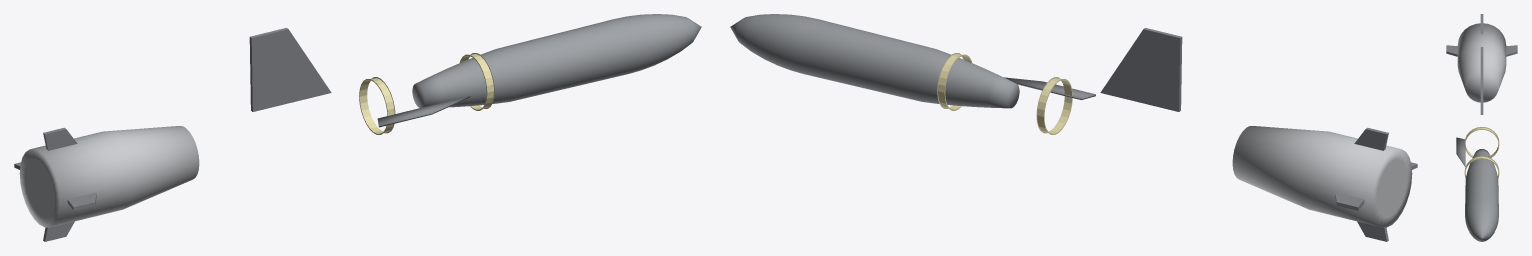
The model's file is FR_ASM_Exocet_SM39_LOD1.fbx.
3 views of the same model, side by side, from view 1: azimuth 30°, elevation 25°; view 2: azimuth 150°, elevation 25°; view 3: azimuth 270°, elevation 25° (orthographic). The views are drawn at different scales.
Parts seen in each view (by area): view 1: WPN_FR_ASM_Exocet_SM39_LOD1_Body, WPN_FR_ASM_Exocet_SM39_LOD1_Tail, WPN_FR_ASM_Exocet_SM39_LOD1_Wings, WPN_FR_ASM_Exocet_SM39_LOD1_Marking, WPN_FR_ASM_Exocet_SM39_LOD1_Fins, WPN_FR_ASM_Exocet_SM39_LOD1_Detail; view 2: WPN_FR_ASM_Exocet_SM39_LOD1_Body, WPN_FR_ASM_Exocet_SM39_LOD1_Tail, WPN_FR_ASM_Exocet_SM39_LOD1_Wings, WPN_FR_ASM_Exocet_SM39_LOD1_Marking, WPN_FR_ASM_Exocet_SM39_LOD1_Fins, WPN_FR_ASM_Exocet_SM39_LOD1_Detail; view 3: WPN_FR_ASM_Exocet_SM39_LOD1_Tail, WPN_FR_ASM_Exocet_SM39_LOD1_Body, WPN_FR_ASM_Exocet_SM39_LOD1_Marking, WPN_FR_ASM_Exocet_SM39_LOD1_Fins, WPN_FR_ASM_Exocet_SM39_LOD1_Wings, WPN_FR_ASM_Exocet_SM39_LOD1_Detail.
Part boxes in pixels (box(x1,y1,x2,y2)): WPN_FR_ASM_Exocet_SM39_LOD1_Body: box(412, 14, 701, 107); WPN_FR_ASM_Exocet_SM39_LOD1_Tail: box(19, 126, 199, 227); WPN_FR_ASM_Exocet_SM39_LOD1_Wings: box(249, 28, 331, 111); WPN_FR_ASM_Exocet_SM39_LOD1_Marking: box(359, 53, 494, 134); WPN_FR_ASM_Exocet_SM39_LOD1_Fins: box(14, 127, 96, 241); WPN_FR_ASM_Exocet_SM39_LOD1_Detail: box(377, 96, 470, 127); WPN_FR_ASM_Exocet_SM39_LOD1_Body: box(730, 14, 1019, 108); WPN_FR_ASM_Exocet_SM39_LOD1_Tail: box(1232, 126, 1412, 227); WPN_FR_ASM_Exocet_SM39_LOD1_Wings: box(1100, 28, 1182, 111); WPN_FR_ASM_Exocet_SM39_LOD1_Marking: box(937, 53, 1072, 134); WPN_FR_ASM_Exocet_SM39_LOD1_Fins: box(1335, 127, 1417, 241); WPN_FR_ASM_Exocet_SM39_LOD1_Detail: box(1004, 77, 1095, 99); WPN_FR_ASM_Exocet_SM39_LOD1_Tail: box(1457, 23, 1506, 102); WPN_FR_ASM_Exocet_SM39_LOD1_Body: box(1465, 149, 1498, 241); WPN_FR_ASM_Exocet_SM39_LOD1_Marking: box(1464, 127, 1499, 178); WPN_FR_ASM_Exocet_SM39_LOD1_Fins: box(1446, 14, 1517, 56); WPN_FR_ASM_Exocet_SM39_LOD1_Wings: box(1480, 47, 1483, 114); WPN_FR_ASM_Exocet_SM39_LOD1_Detail: box(1456, 137, 1465, 166).
Size of the model in its own units: 4.7 by 0.7311 by 1.04.
